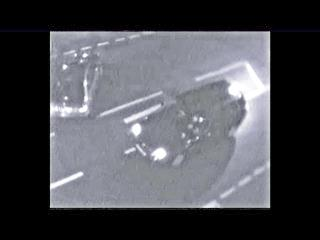Car: (133, 83, 247, 168), (53, 50, 99, 122)
